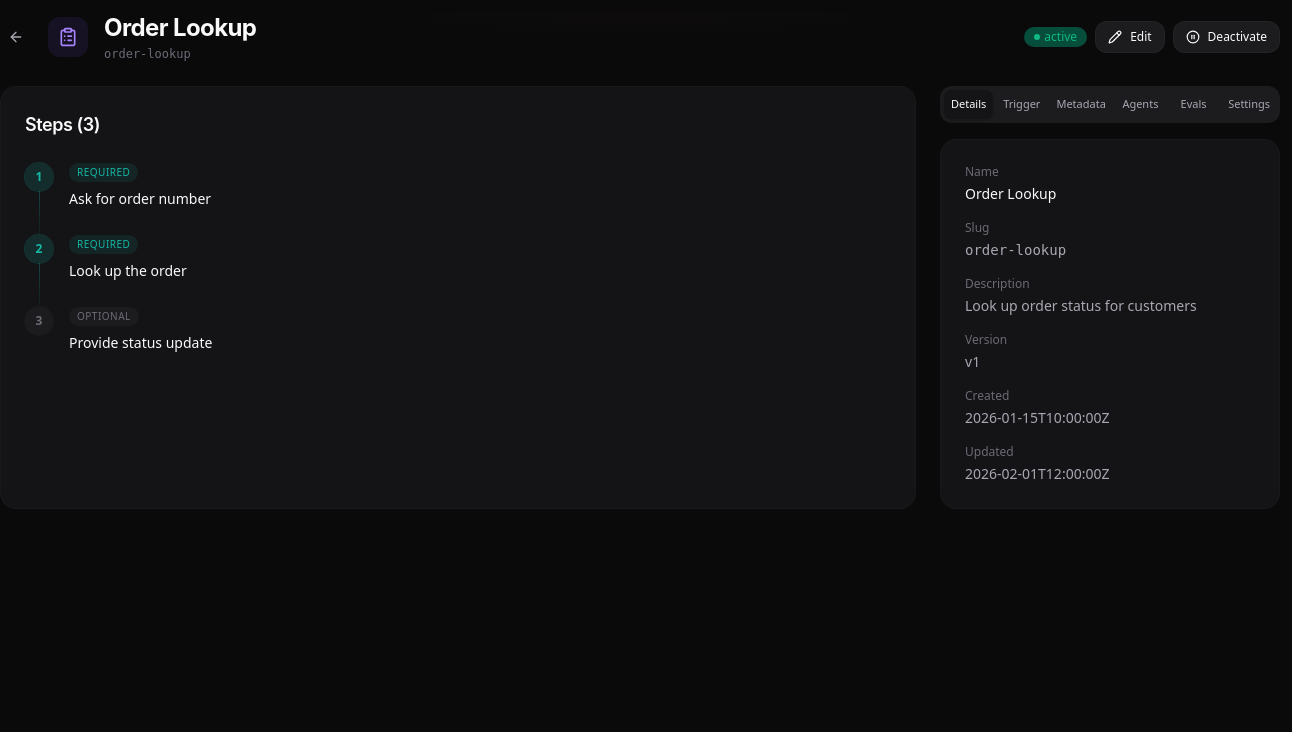
Scenario: SopDetailPage › mutation error feedback › shows error message when archive fails
Click the button "Settings" at point(1249, 104), box [1222,90,1276,118]
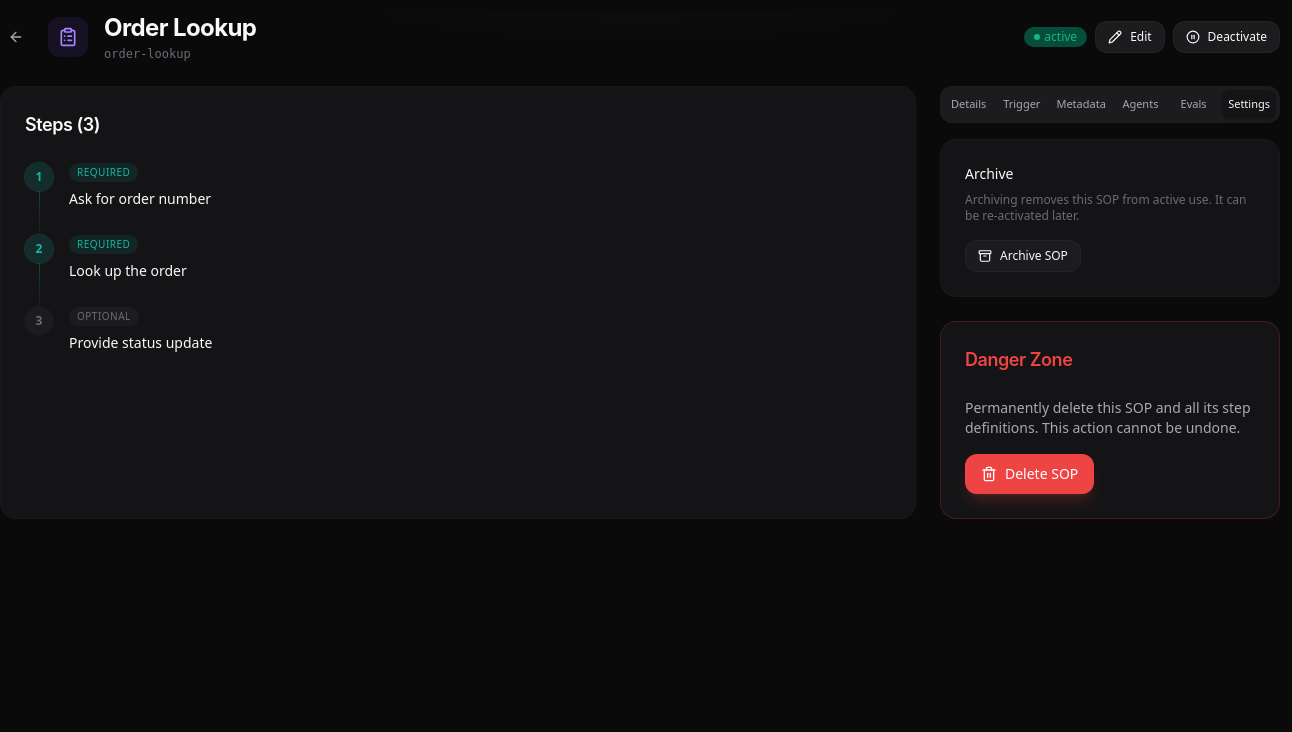
Expected: the button "Archive SOP" is shown
Click the button "Archive SOP" at point(1023, 256), box [965,240,1081,272]
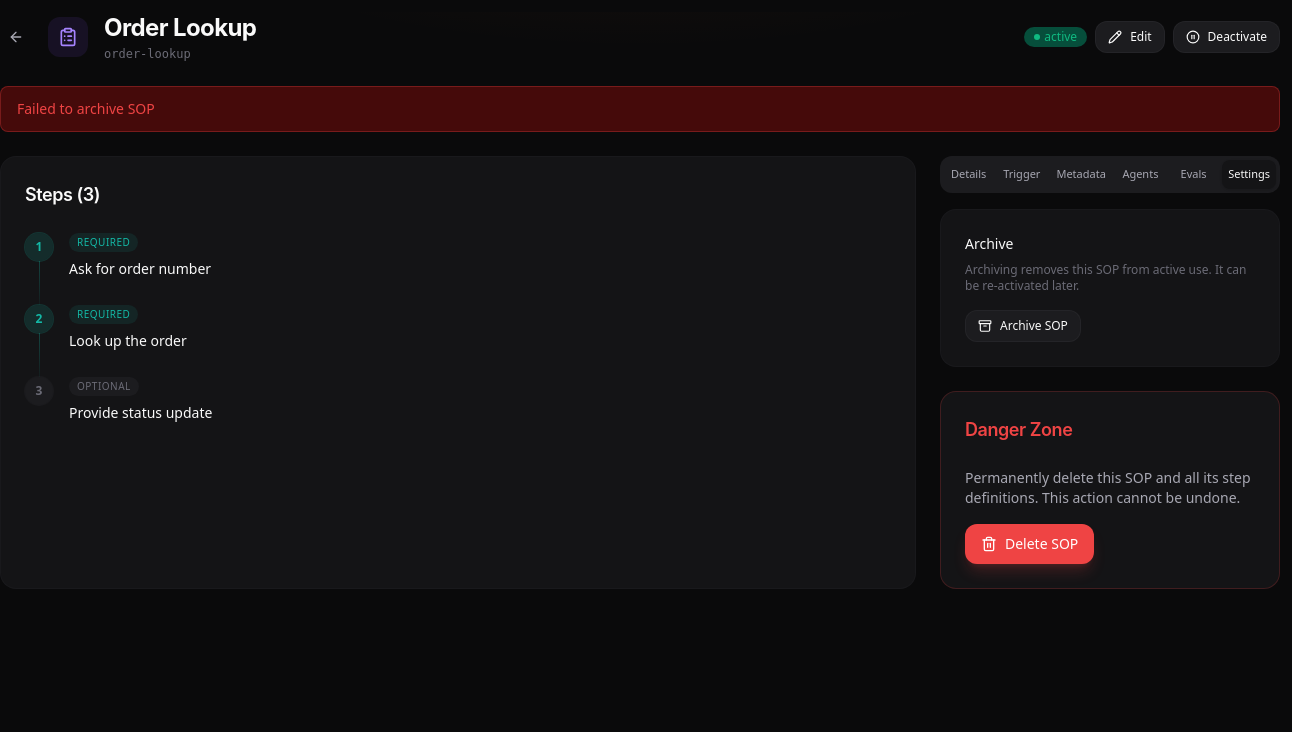
Expected: the text "Failed to archive SOP" is shown, [17,99,155,118]
